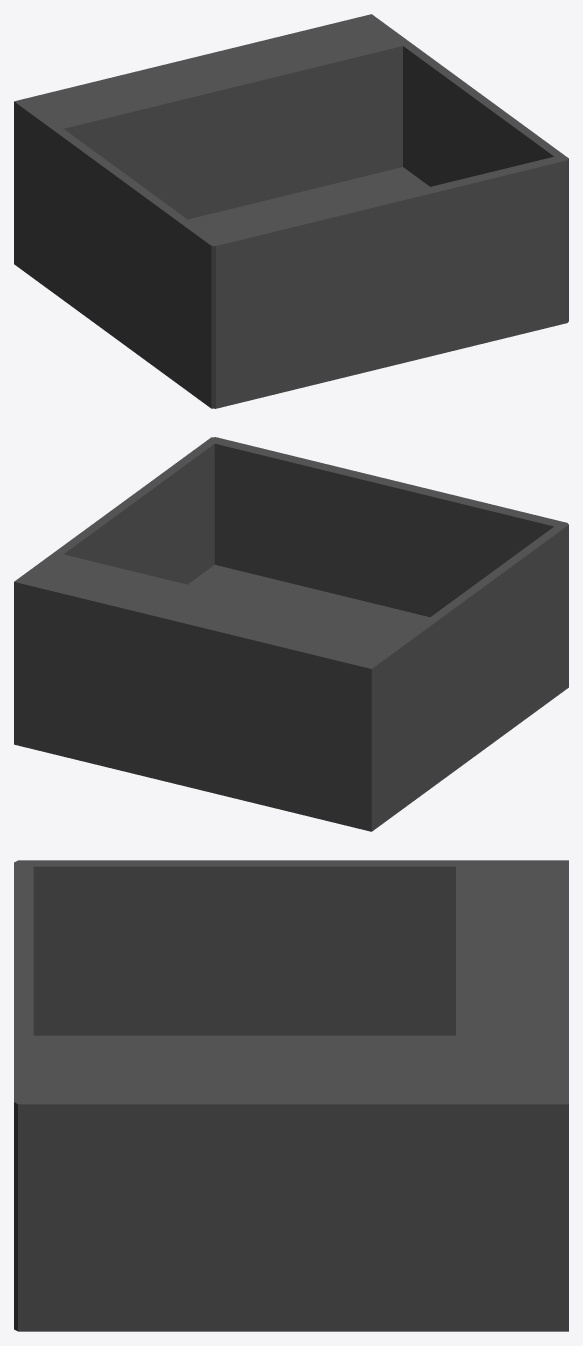
The model's file is Sink2_C1.fbx.
3 views of the same model, one above another, from view 1: azimuth 30°, elevation 25°; view 2: azimuth 150°, elevation 25°; view 3: azimuth 270°, elevation 25° (orthographic). The views are drawn at different scales.
Visible parts, largest first — view 1: Sink2_C1; view 2: Sink2_C1; view 3: Sink2_C1.
Boxes of the visible parts, x1,y1,x2,y2 form: Sink2_C1: [14, 14, 568, 408]; Sink2_C1: [14, 437, 568, 831]; Sink2_C1: [14, 860, 568, 1331].
Bounding box in the file's own units: 58.98 × 25.65 × 56.76.
